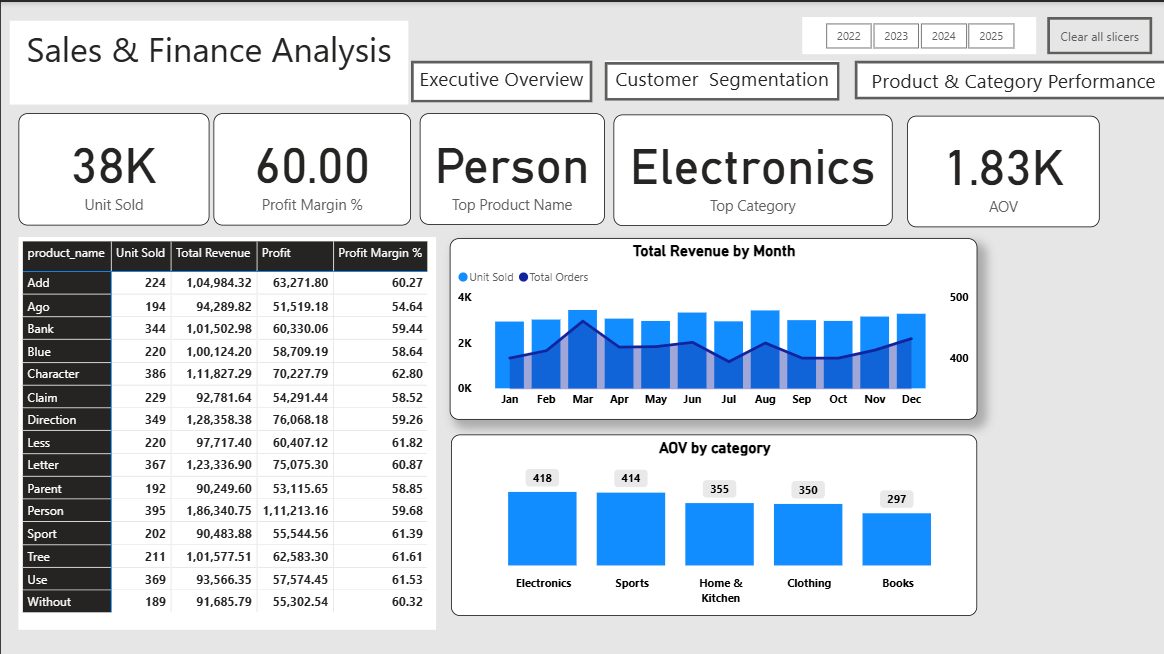

Layout of this report page (visuals, bound fields, positions):
{"tool":"powerbi","page":{"name":" Product & Category Performance","canvas":[1280,720],"ordinal":2},"visuals":[{"type":"actionButton","box":[449.8,64.2,199.1,46],"z":0,"group":"g1"},{"type":"card","fields":{"Values":["_measures.Top Category"]},"box":[672.4,123.5,306,122.1],"z":0},{"type":"actionButton","box":[662.5,65.8,258,42.5],"z":1000,"group":"g1"},{"type":"card","fields":{"Values":["_measures.Profit Margin %"]},"box":[233.3,122.1,216.8,123.5],"z":1000},{"type":"actionButton","box":[937,64.5,343.1,42.5],"z":2000,"group":"g1"},{"type":"card","fields":{"Values":["_measures.Unit Sold"]},"box":[19.2,122.1,209.9,123.5],"z":2000},{"type":"card","fields":{"Values":["_measures.Top Product Name"]},"box":[459.7,122.1,203.1,122.1],"z":3000},{"type":"card","fields":{"Values":["_measures.AOV"]},"box":[994.9,124.9,211.3,122.1],"z":4000},{"type":"lineStackedColumnComboChart","title":"Total Revenue by Month","fields":{"Category":["DateTable.MonthShort"],"Y2":["_measures.Total Orders"],"Y":["_measures.Unit Sold"]},"box":[492.6,259.3,579.1,199],"z":5000},{"type":"clusteredColumnChart","fields":{"Category":["products.category"],"Y":["_measures.AOV"]},"box":[494,474.8,577.7,199],"z":6000},{"type":"slicer","fields":{"Values":["DateTable.Year"]},"box":[879.6,16.5,256.6,41.2],"z":7000},{"type":"actionButton","box":[1148.5,16.5,115.3,41.2],"z":8000},{"type":"textbox","box":[9.6,20.6,437.7,91.9],"z":9000},{"type":"textbox","box":[450.1,64.5,199,43.9],"z":10000},{"type":"textbox","box":[662.8,64.5,258,43.9],"z":11000},{"type":"textbox","box":[936.9,65.9,343.1,41.2],"z":12000},{"type":"group","id":"g1","title":"nav button","box":[449.8,64.2,830.2,46],"z":13000},{"type":"pivotTable","fields":{"Rows":["products.product_name"],"Values":["_measures.Unit Sold","_measures.Total Revenue","_measures.Profit","_measures.Profit Margin %"]},"box":[19.2,258,458.3,430.9],"z":14000}]}

Visuals, with their boxes in screenshot pixels (x1, y1, x2, y2), scaled from the page's 1280x720 canvas onto the 1164x654 screenshot:
actionButton: {"x1": 409, "y1": 58, "x2": 590, "y2": 100}
card - _measures.Top Category: {"x1": 611, "y1": 112, "x2": 890, "y2": 223}
actionButton: {"x1": 602, "y1": 60, "x2": 837, "y2": 98}
card - _measures.Profit Margin %: {"x1": 212, "y1": 111, "x2": 409, "y2": 223}
actionButton: {"x1": 852, "y1": 59, "x2": 1163, "y2": 97}
card - _measures.Unit Sold: {"x1": 17, "y1": 111, "x2": 208, "y2": 223}
card - _measures.Top Product Name: {"x1": 418, "y1": 111, "x2": 603, "y2": 222}
card - _measures.AOV: {"x1": 905, "y1": 113, "x2": 1097, "y2": 224}
"Total Revenue by Month" lineStackedColumnComboChart: {"x1": 448, "y1": 236, "x2": 975, "y2": 416}
clusteredColumnChart - products.category x _measures.AOV: {"x1": 449, "y1": 431, "x2": 975, "y2": 612}
slicer - DateTable.Year: {"x1": 800, "y1": 15, "x2": 1033, "y2": 52}
actionButton: {"x1": 1044, "y1": 15, "x2": 1149, "y2": 52}
textbox: {"x1": 9, "y1": 19, "x2": 407, "y2": 102}
textbox: {"x1": 409, "y1": 59, "x2": 590, "y2": 98}
textbox: {"x1": 603, "y1": 59, "x2": 837, "y2": 98}
textbox: {"x1": 852, "y1": 60, "x2": 1163, "y2": 97}
"nav button" group: {"x1": 409, "y1": 58, "x2": 1163, "y2": 100}
pivotTable - products.product_name x _measures.Unit Sold: {"x1": 17, "y1": 234, "x2": 434, "y2": 626}
